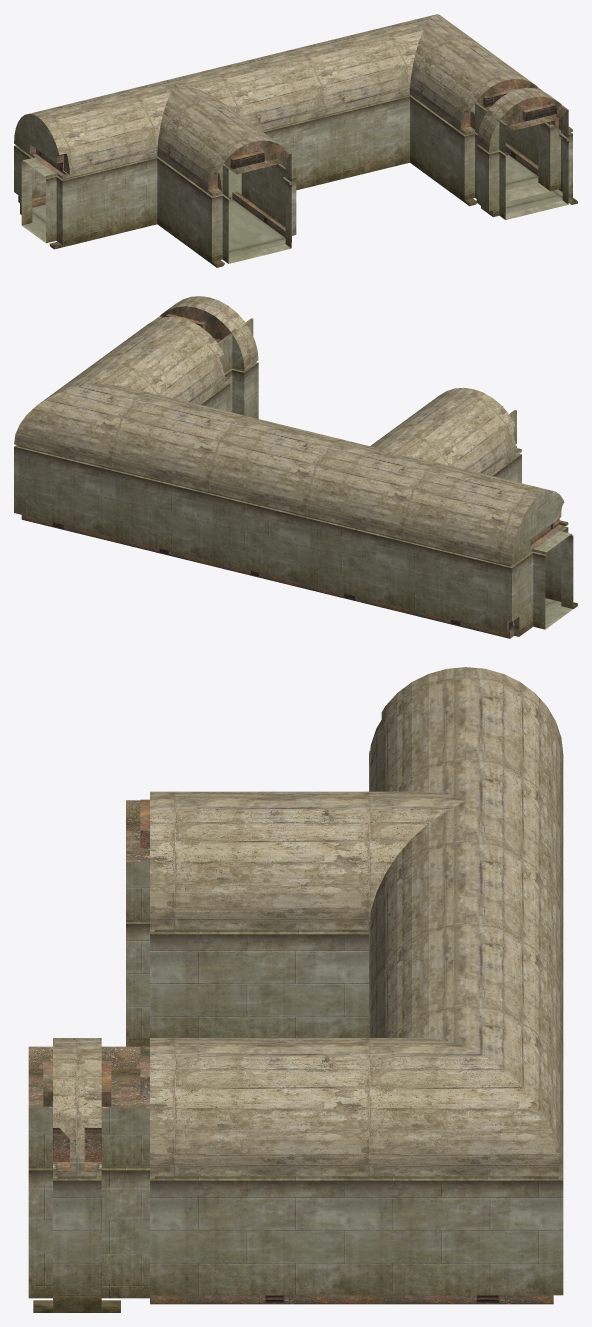
File: poi_all_bunker_allum_mine_r32_hall32_mesh_r32.fbx
The picture shows the model from 3 angles, top to bottom: view 1: azimuth 30°, elevation 25°; view 2: azimuth 150°, elevation 25°; view 3: azimuth 270°, elevation 25°; orthographic projection. The views are drawn at different scales.
Parts seen in each view (by area): view 1: mesh_node; view 2: mesh_node; view 3: mesh_node.
Part boxes in pixels (<box>): mesh_node: <box>14,14,577,267</box>; mesh_node: <box>14,296,577,638</box>; mesh_node: <box>28,667,563,1312</box>.
Size of the model in its own units: 21 by 5.1 by 11.
